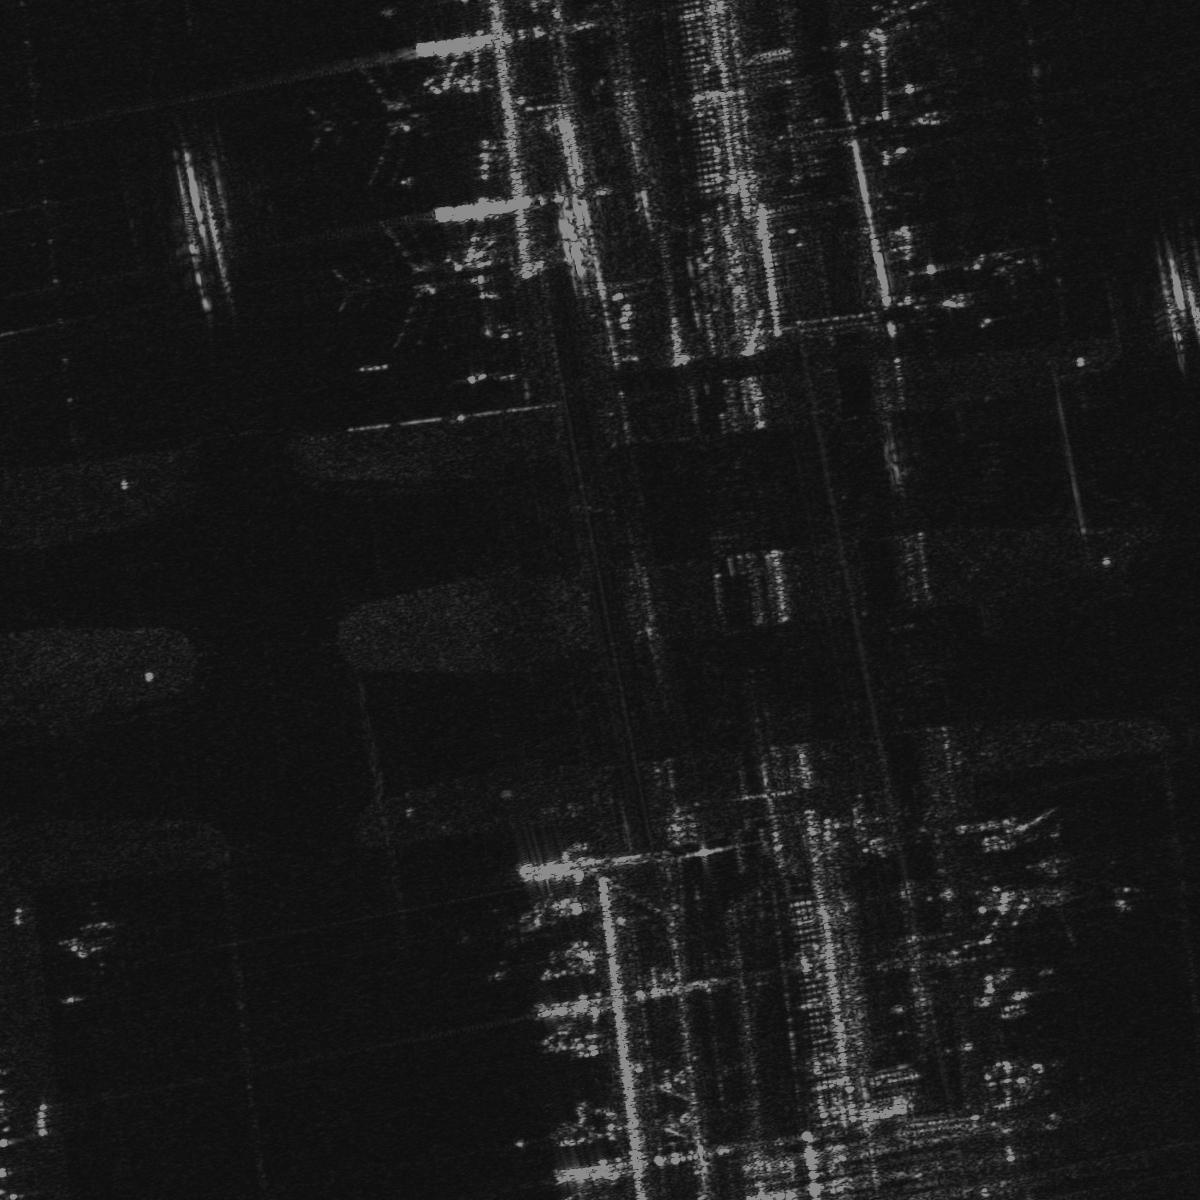A330: (338, 221, 457, 352)
Boeing787: (307, 64, 427, 190)
